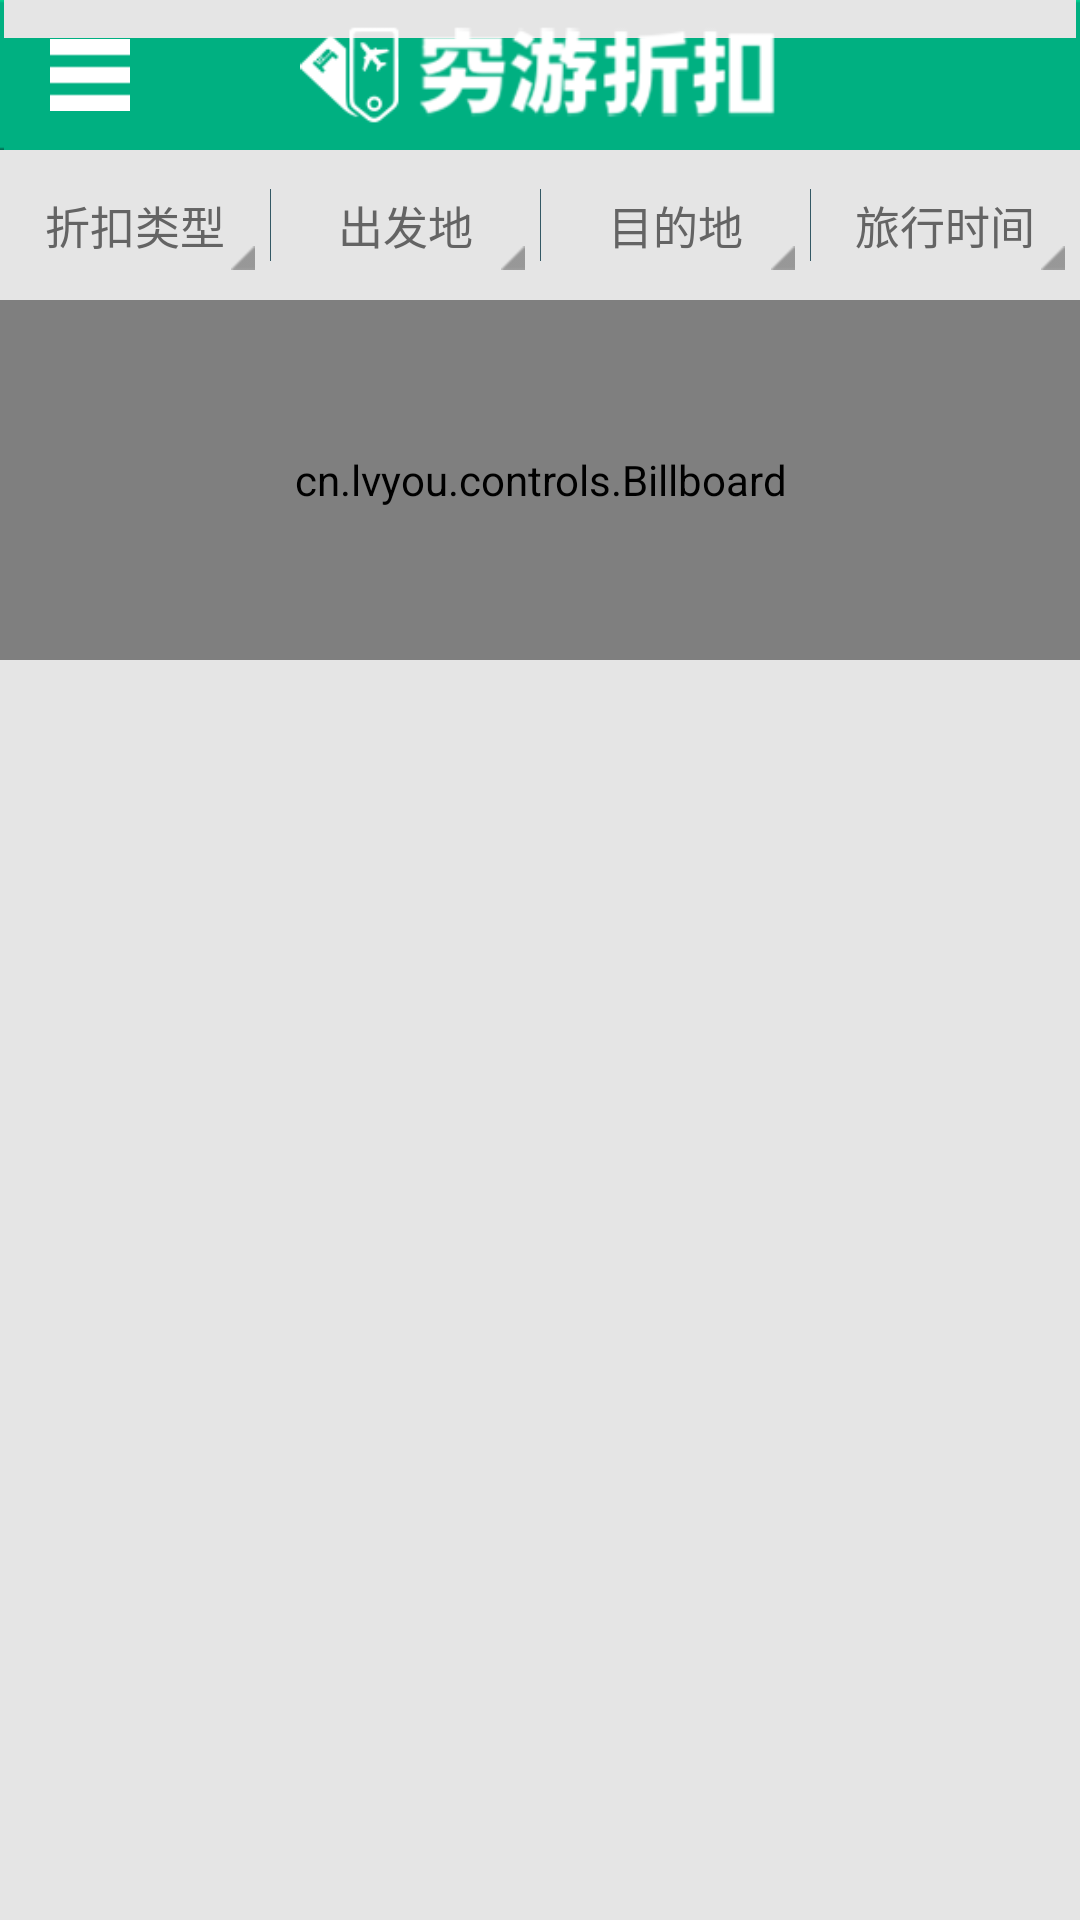

Icon click points for this 1080 x 1920 phone screenshot, format (x,y):
selection arrow: (243,258), (513,258), (783,258), (1053,258)
